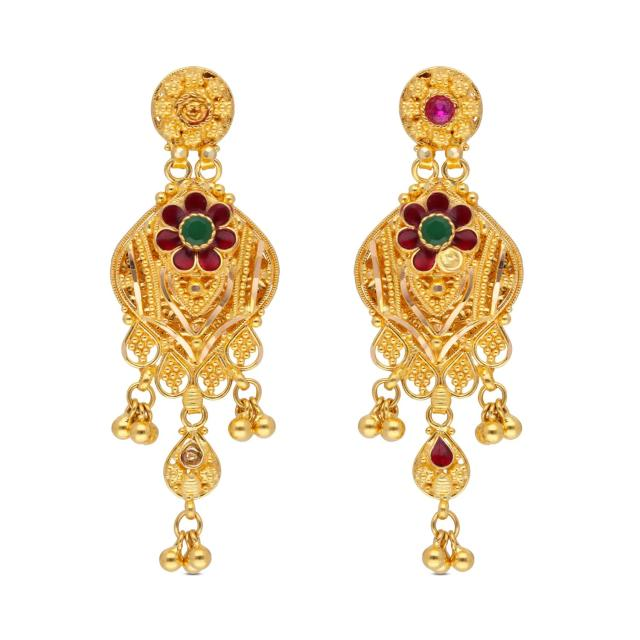missing gem: (181, 96, 208, 122), (181, 436, 202, 467), (440, 248, 461, 268)
